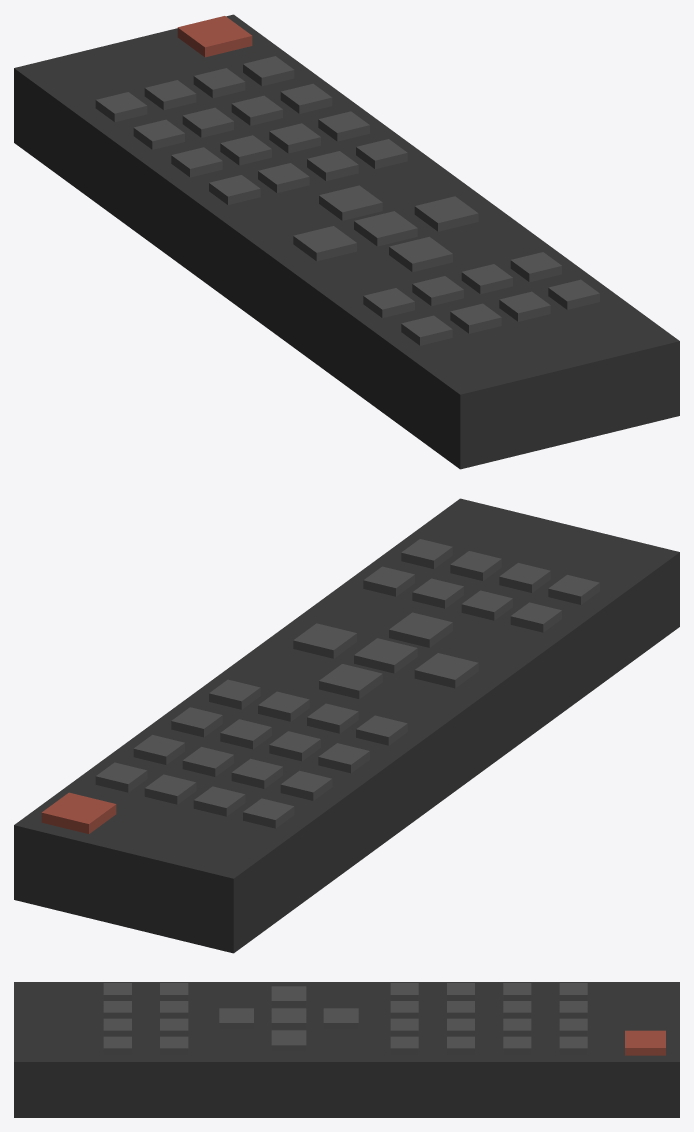
3 views of the same model, one above another, from view 1: azimuth 30°, elevation 25°; view 2: azimuth 150°, elevation 25°; view 3: azimuth 270°, elevation 25° (orthographic). The views are drawn at different scales.
Parts seen in each view (by area): view 1: TV_05; view 2: TV_05; view 3: TV_05.
Boxes of the visible parts, x1,y1,x2,y2 form: TV_05: (14,14,679,469); TV_05: (14,498,679,953); TV_05: (14,982,679,1117).
Bounding box in the file's own units: 5.67 × 2.09 × 19.96.
